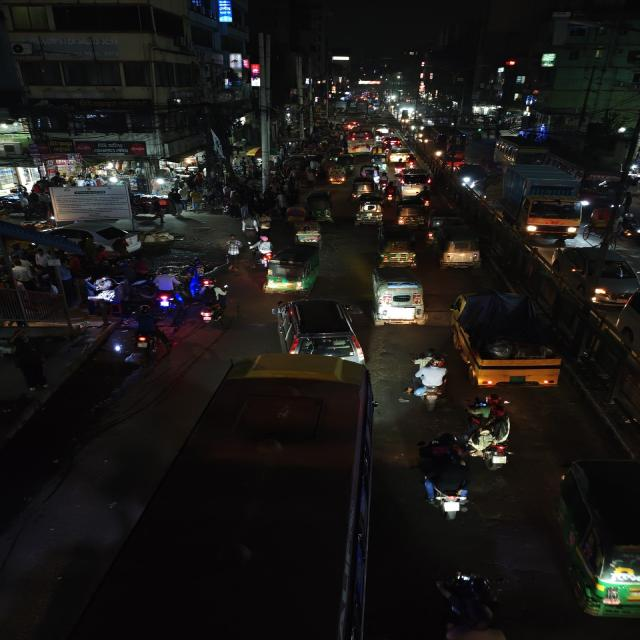bus: (141, 351, 384, 640), (494, 136, 549, 168)
car: (270, 295, 366, 363), (549, 243, 640, 305), (44, 220, 147, 262), (612, 281, 640, 371), (396, 168, 432, 194), (453, 162, 486, 188)
cng: (553, 456, 640, 620), (369, 264, 428, 329), (264, 242, 323, 296), (433, 224, 482, 272), (376, 224, 418, 266), (352, 193, 385, 227), (306, 189, 336, 222), (428, 206, 464, 230), (396, 202, 425, 228), (350, 178, 373, 197), (358, 163, 378, 179), (369, 152, 388, 168), (338, 155, 354, 170)
motorcycle: (430, 570, 516, 640), (409, 437, 474, 522), (462, 395, 516, 473), (401, 350, 453, 410), (128, 310, 167, 358), (194, 282, 229, 329), (148, 269, 184, 311), (615, 211, 640, 241), (252, 234, 275, 266), (383, 182, 398, 204), (416, 189, 434, 207), (403, 154, 419, 168)
pedestrian: (9, 330, 50, 392), (222, 235, 244, 273), (254, 211, 275, 233)
pickup_van: (447, 288, 563, 391)
rickshaw: (294, 219, 323, 243), (282, 205, 309, 227), (328, 164, 349, 187)
truck: (499, 164, 585, 241)
